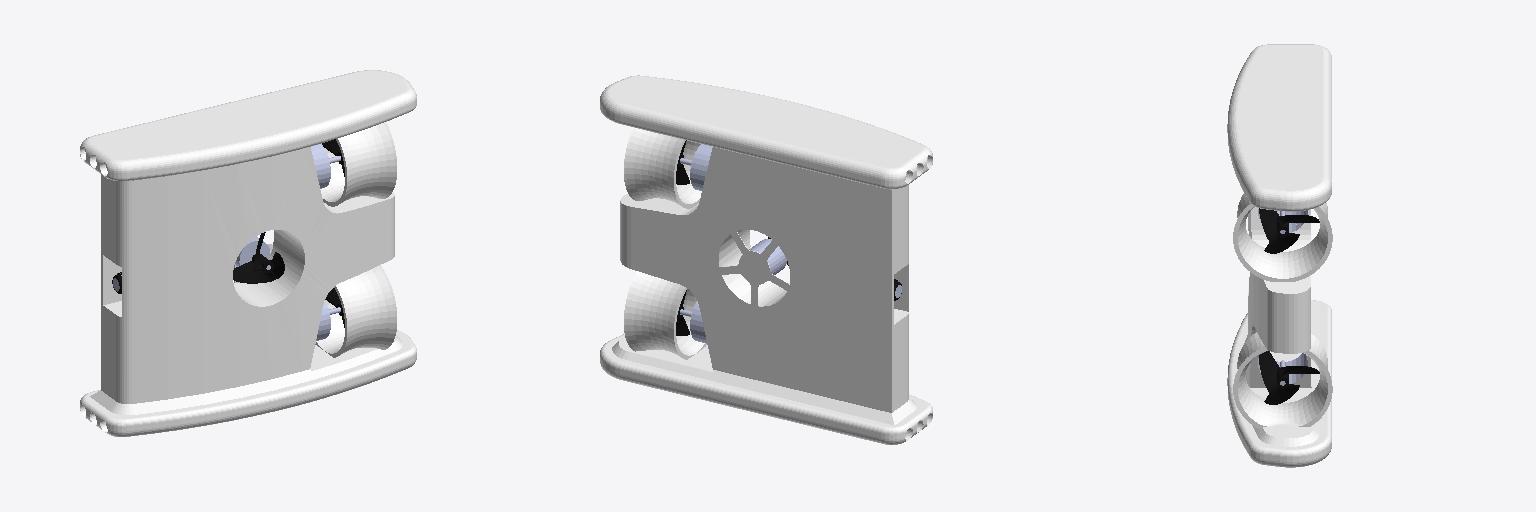
File: Trident.obj
3 views of the same model, side by side, from view 1: azimuth 30°, elevation 25°; view 2: azimuth 150°, elevation 25°; view 3: azimuth 270°, elevation 25° (orthographic).
Visible parts, largest first — view 1: mesh114, mesh77, mesh82, mesh115, mesh102, mesh131, mesh125, mesh129, mesh168, mesh142, mesh149, mesh85 (+9 smaller); view 2: mesh188, mesh77, mesh115, mesh65, mesh102, mesh126, mesh129, mesh140, mesh168, mesh153, mesh135, mesh72 (+8 smaller); view 3: mesh77, mesh106, mesh120, mesh109, mesh82, mesh114, mesh135, mesh65, mesh104, mesh118, mesh121, mesh142 (+5 smaller).
Boxes of the visible parts, x1=… form: mesh114: x1=132, y1=147, x2=390, y2=403; mesh77: x1=90, y1=71, x2=406, y2=159; mesh82: x1=125, y1=92, x2=410, y2=172; mesh115: x1=336, y1=265, x2=396, y2=353; mesh102: x1=338, y1=122, x2=396, y2=203; mesh131: x1=116, y1=181, x2=131, y2=403; mesh125: x1=132, y1=344, x2=395, y2=414; mesh129: x1=101, y1=174, x2=115, y2=400; mesh168: x1=234, y1=230, x2=304, y2=306; mesh142: x1=126, y1=351, x2=410, y2=425; mesh149: x1=126, y1=363, x2=410, y2=436; mesh85: x1=127, y1=104, x2=410, y2=177; mesh188: x1=631, y1=147, x2=891, y2=412; mesh77: x1=609, y1=76, x2=922, y2=167; mesh115: x1=624, y1=271, x2=685, y2=355; mesh65: x1=620, y1=104, x2=885, y2=179; mesh102: x1=624, y1=128, x2=682, y2=205; mesh126: x1=627, y1=352, x2=894, y2=425; mesh129: x1=892, y1=186, x2=906, y2=412; mesh140: x1=620, y1=363, x2=883, y2=432; mesh168: x1=719, y1=230, x2=789, y2=306; mesh153: x1=620, y1=375, x2=882, y2=443; mesh135: x1=605, y1=335, x2=927, y2=426; mesh72: x1=620, y1=116, x2=880, y2=184; mesh77: x1=1237, y1=45, x2=1322, y2=190; mesh106: x1=1238, y1=206, x2=1327, y2=278; mesh120: x1=1238, y1=352, x2=1327, y2=423; mesh109: x1=1285, y1=287, x2=1310, y2=353; mesh82: x1=1227, y1=49, x2=1258, y2=193; mesh114: x1=1248, y1=211, x2=1266, y2=383; mesh135: x1=1233, y1=301, x2=1326, y2=449; mesh65: x1=1323, y1=50, x2=1331, y2=182; mesh104: x1=1233, y1=204, x2=1332, y2=281; mesh118: x1=1233, y1=347, x2=1332, y2=428; mesh121: x1=1250, y1=388, x2=1312, y2=437; mesh142: x1=1227, y1=313, x2=1253, y2=446.
Size of the model in its own units: 0.2625 by 0.22 by 0.076.